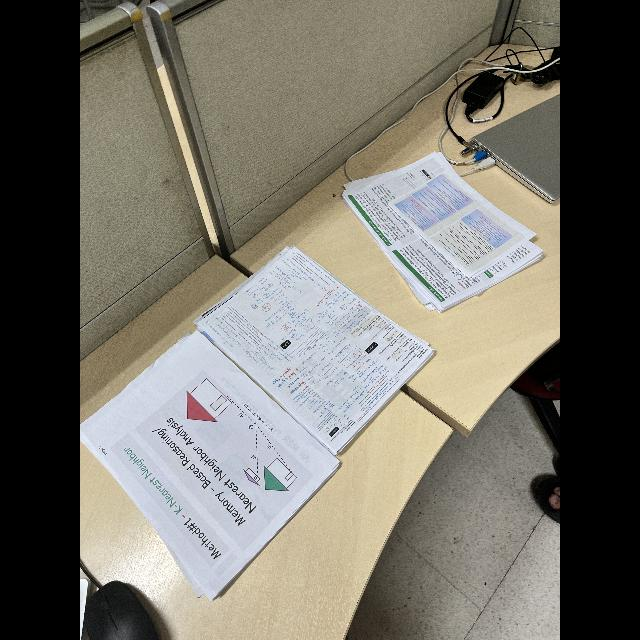reuseable_paper: (80, 248, 438, 602), (338, 145, 548, 319)
